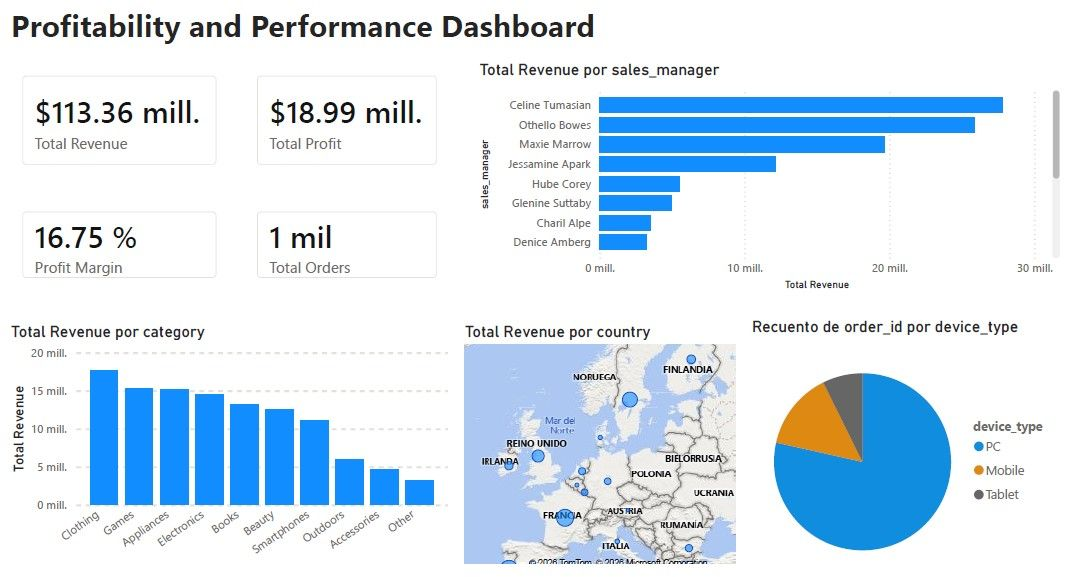

The dashboard page shown, as its layout file describes it:
{"tool":"powerbi","page":{"name":"Página 1","canvas":[1280,720],"ordinal":0},"visuals":[{"type":"cardVisual","fields":{"Data":["sales_dashboard sales_with_profit.Total Profit"]},"box":[282.9,47,218.1,120.6],"z":0},{"type":"cardVisual","fields":{"Data":["sales_dashboard sales_with_profit.Profit Margin"]},"box":[21.3,190.6,243.8,102],"z":1000},{"type":"cardVisual","fields":{"Data":["Calendar.Total Orders"]},"box":[282.9,190.6,218.1,102],"z":2000},{"type":"cardVisual","fields":{"Data":["sales_dashboard sales_with_profit.Total Revenue"]},"box":[21.3,47,243.8,120.6],"z":3000},{"type":"clusteredColumnChart","fields":{"Category":["sales_dashboard sales_with_profit.category"],"Y":["sales_dashboard sales_with_profit.Total Revenue"]},"box":[21.3,313.9,479.7,322.8],"z":4000},{"type":"map","fields":{"Category":["sales_dashboard sales_with_profit.country"],"Size":["sales_dashboard sales_with_profit.Total Revenue"]},"box":[514.3,313.9,371.5,322.8],"z":5000},{"type":"pieChart","fields":{"Category":["sales_dashboard sales_with_profit.device_type"],"Y":["CountNonNull(sales_dashboard sales_with_profit.order_id)"]},"box":[902.7,313.9,334.3,322.8],"z":6000},{"type":"barChart","fields":{"Category":["sales_dashboard sales_with_profit.sales_manager"],"Y":["sales_dashboard sales_with_profit.Total Revenue"]},"box":[514.3,47,722.7,245.6],"z":7000},{"type":"actionButton","box":[0,0,100,40],"z":8000}]}

Visuals, with their boxes on the page's 1280x720 design canvas (x1, y1, x2, y2). These are canvas units, not pixel positions in the 1078x577 screenshot, which may show the page scaled, cropped or inside an application window:
cardVisual - sales_dashboard sales_with_profit.Total Profit: [283,47,501,168]
cardVisual - sales_dashboard sales_with_profit.Profit Margin: [21,191,265,293]
cardVisual - Calendar.Total Orders: [283,191,501,293]
cardVisual - sales_dashboard sales_with_profit.Total Revenue: [21,47,265,168]
clusteredColumnChart - sales_dashboard sales_with_profit.category x sales_dashboard sales_with_profit.Total Revenue: [21,314,501,637]
map - sales_dashboard sales_with_profit.country x sales_dashboard sales_with_profit.Total Revenue: [514,314,886,637]
pieChart - sales_dashboard sales_with_profit.device_type x CountNonNull(sales_dashboard sales_with_profit.order_id): [903,314,1237,637]
barChart - sales_dashboard sales_with_profit.sales_manager x sales_dashboard sales_with_profit.Total Revenue: [514,47,1237,293]
actionButton: [0,0,100,40]
